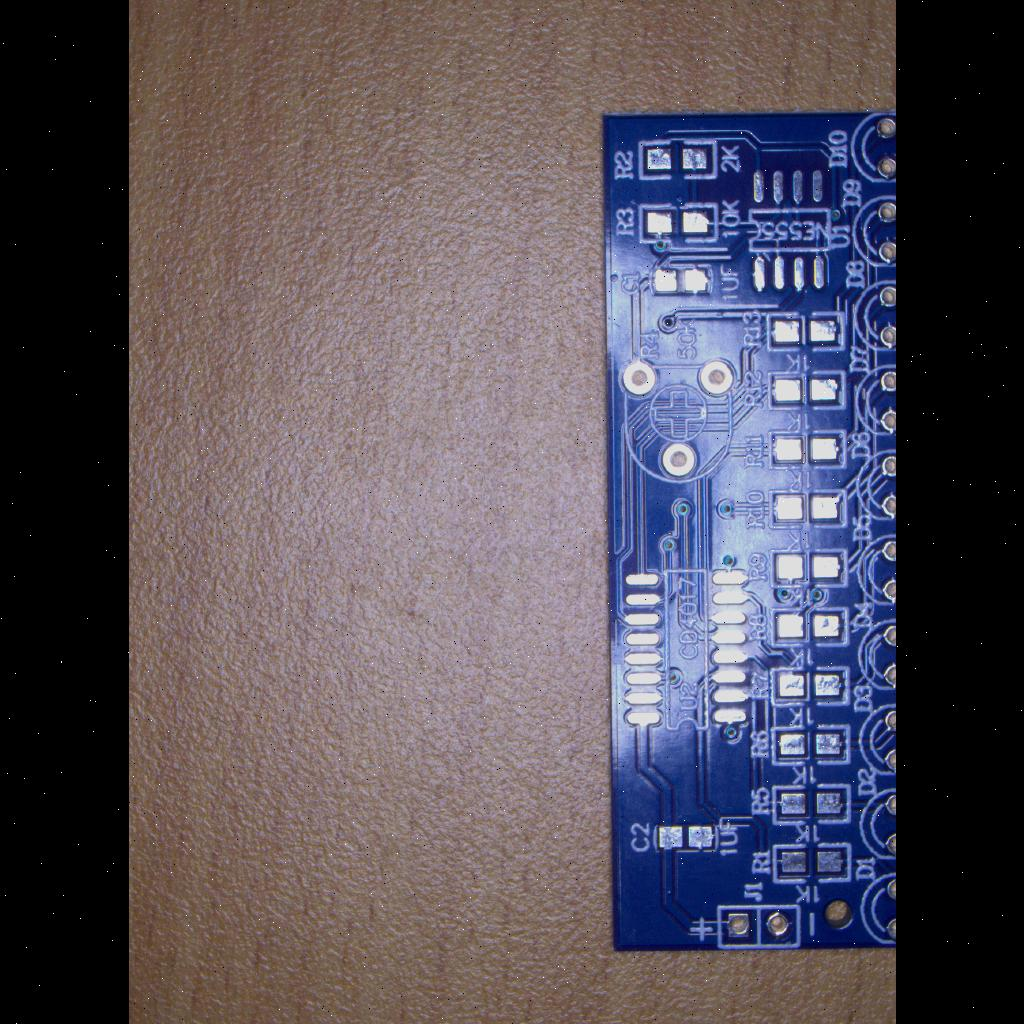NG: (616, 560, 756, 742), (744, 162, 840, 298), (634, 197, 722, 251), (632, 134, 724, 184), (768, 778, 856, 830), (762, 365, 850, 415), (764, 484, 852, 534), (768, 722, 856, 772), (764, 306, 850, 356), (770, 838, 856, 888), (766, 426, 854, 474), (766, 602, 854, 650), (766, 663, 852, 711), (768, 545, 854, 591), (645, 260, 719, 302), (649, 818, 725, 856)
OK: (659, 556, 709, 732)
